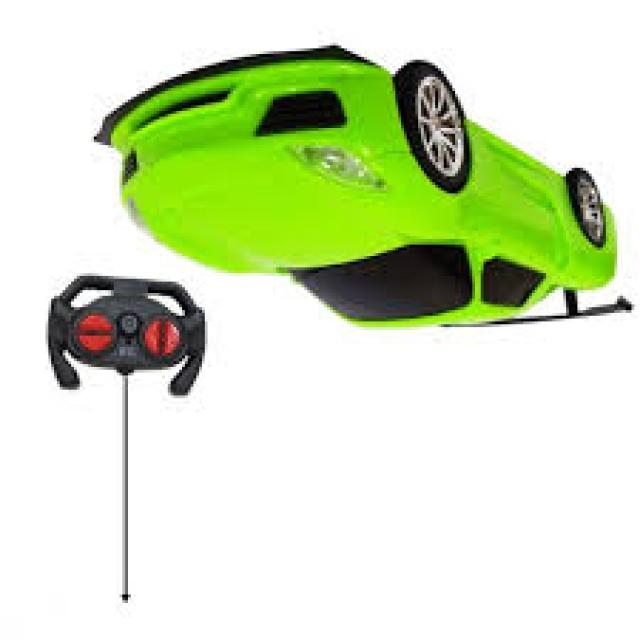Car: (106, 45, 632, 333)
